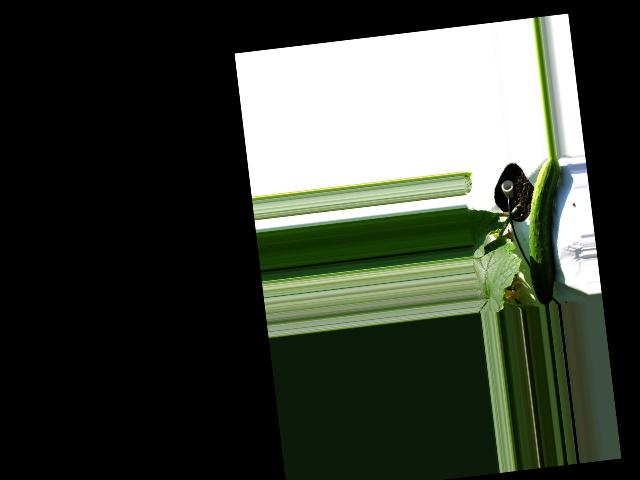cucumber: (517, 154, 576, 306)
